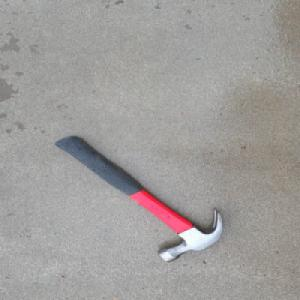Hammer: (51, 135, 226, 270)
